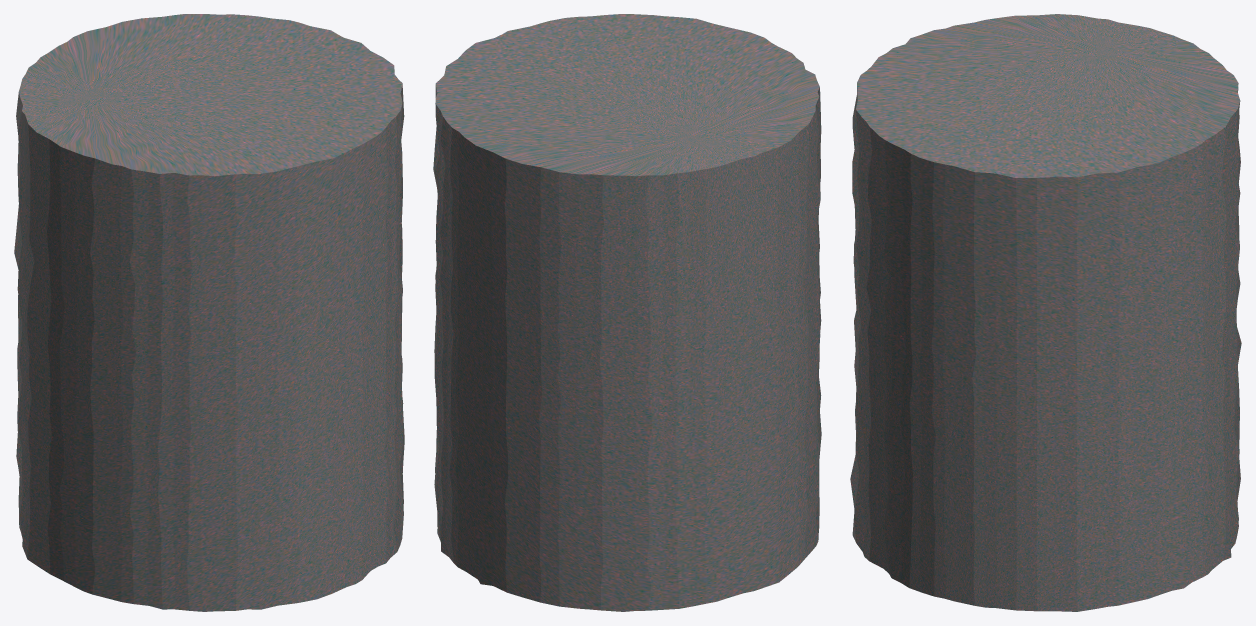
File: barrel_68.dae
3 renders of one model, left to right at view 1: azimuth 30°, elevation 25°; view 2: azimuth 150°, elevation 25°; view 3: azimuth 270°, elevation 25°, orthographic.
Visible parts, largest first — view 1: Cylinder; view 2: Cylinder; view 3: Cylinder.
Boxes of the visible parts, x1,y1,x2,y2 form: Cylinder: (14, 14, 404, 611); Cylinder: (433, 14, 821, 611); Cylinder: (850, 14, 1241, 611).
Bounding box in the file's own units: 0.8154 × 0.8163 × 1.
1 material, 1 textured.
